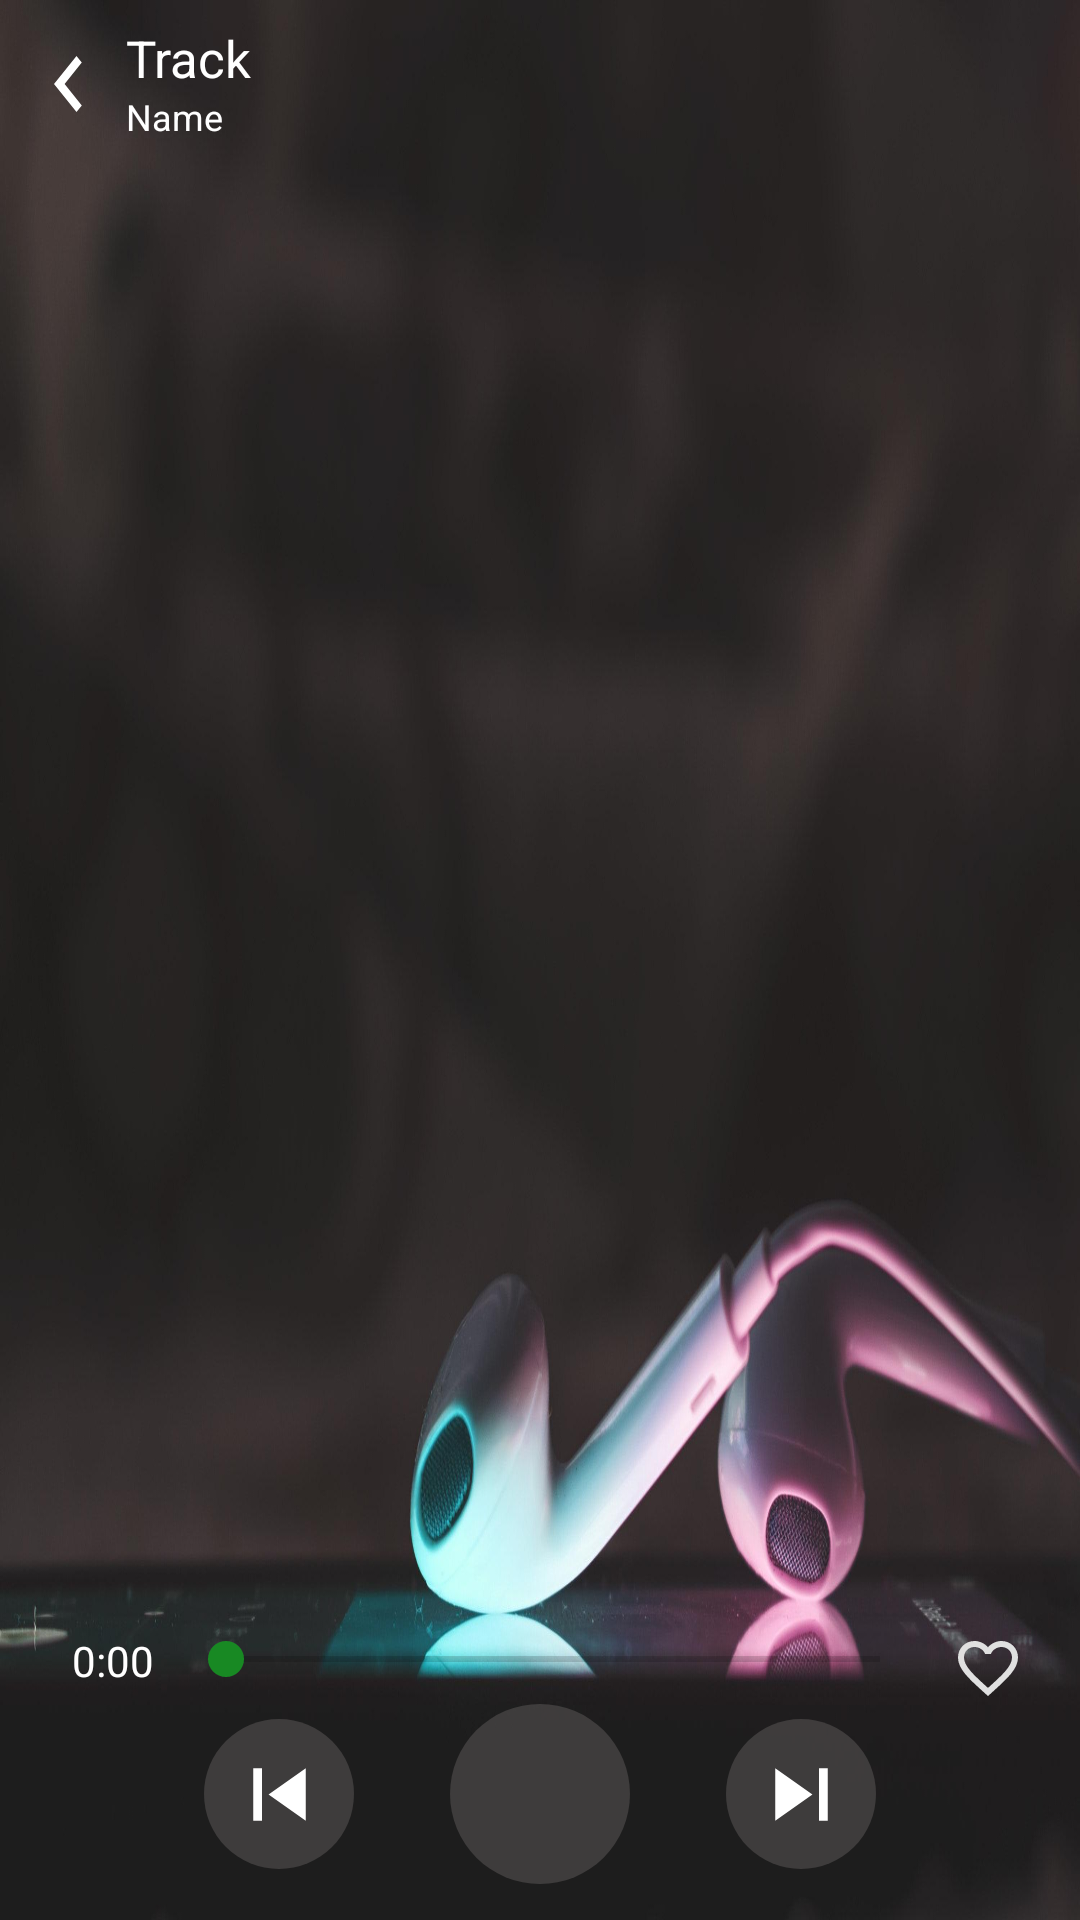

Where icons sit on this 1080×1920 app screen, as box=[x1, y1, x2, y2]:
back: box=[54, 56, 82, 112]
favorite: box=[952, 1632, 1024, 1696]
skip next: box=[726, 1719, 876, 1869]
skip previous: box=[204, 1719, 354, 1869]
